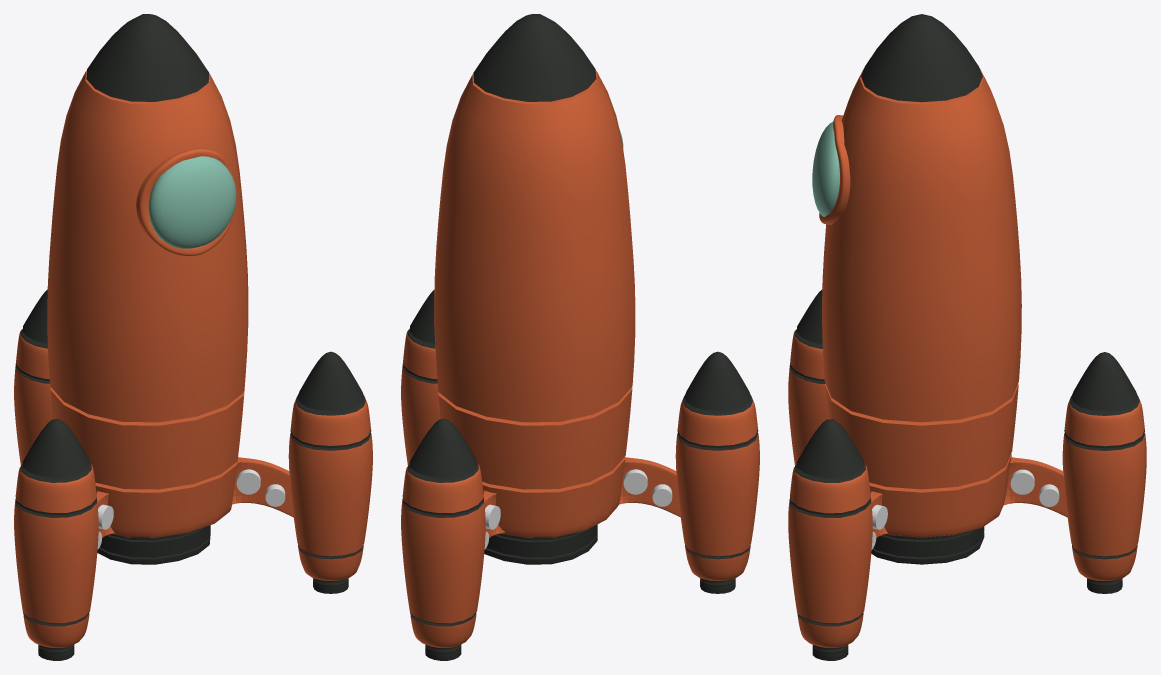
Rendered from racket.fbx.
3 renders of one model, left to right at view 1: azimuth 30°, elevation 25°; view 2: azimuth 150°, elevation 25°; view 3: azimuth 270°, elevation 25°, orthographic.
Parts seen in each view (by area): view 1: Cube, Cube.001, Cube.003, Sphere, Cube.005, Circle, Cube.004; view 2: Cube, Cube.005, Cube.001, Cube.003, Cube.002; view 3: Cube, Cube.003, Cube.005, Cube.001, Sphere, Cube.006, Circle.
Part boxes in pixels (x1=…): Cube: x1=47, y1=14, x2=248, y2=564; Cube.001: x1=14, y1=419, x2=98, y2=660; Cube.003: x1=288, y1=351, x2=372, y2=593; Sphere: x1=148, y1=156, x2=236, y2=248; Cube.005: x1=14, y1=289, x2=52, y2=465; Circle: x1=136, y1=147, x2=234, y2=255; Cube.004: x1=232, y1=457, x2=294, y2=517; Cube: x1=434, y1=14, x2=635, y2=564; Cube.005: x1=401, y1=419, x2=485, y2=660; Cube.001: x1=675, y1=351, x2=759, y2=593; Cube.003: x1=401, y1=290, x2=440, y2=465; Cube.002: x1=619, y1=457, x2=681, y2=517; Cube: x1=822, y1=14, x2=1021, y2=564; Cube.003: x1=788, y1=419, x2=872, y2=660; Cube.005: x1=1062, y1=352, x2=1146, y2=593; Cube.001: x1=788, y1=289, x2=828, y2=465; Sphere: x1=812, y1=122, x2=839, y2=216; Cube.006: x1=1003, y1=457, x2=1067, y2=517; Circle: x1=819, y1=115, x2=850, y2=224.
Size of the model in its own units: 440 by 690 by 393.
